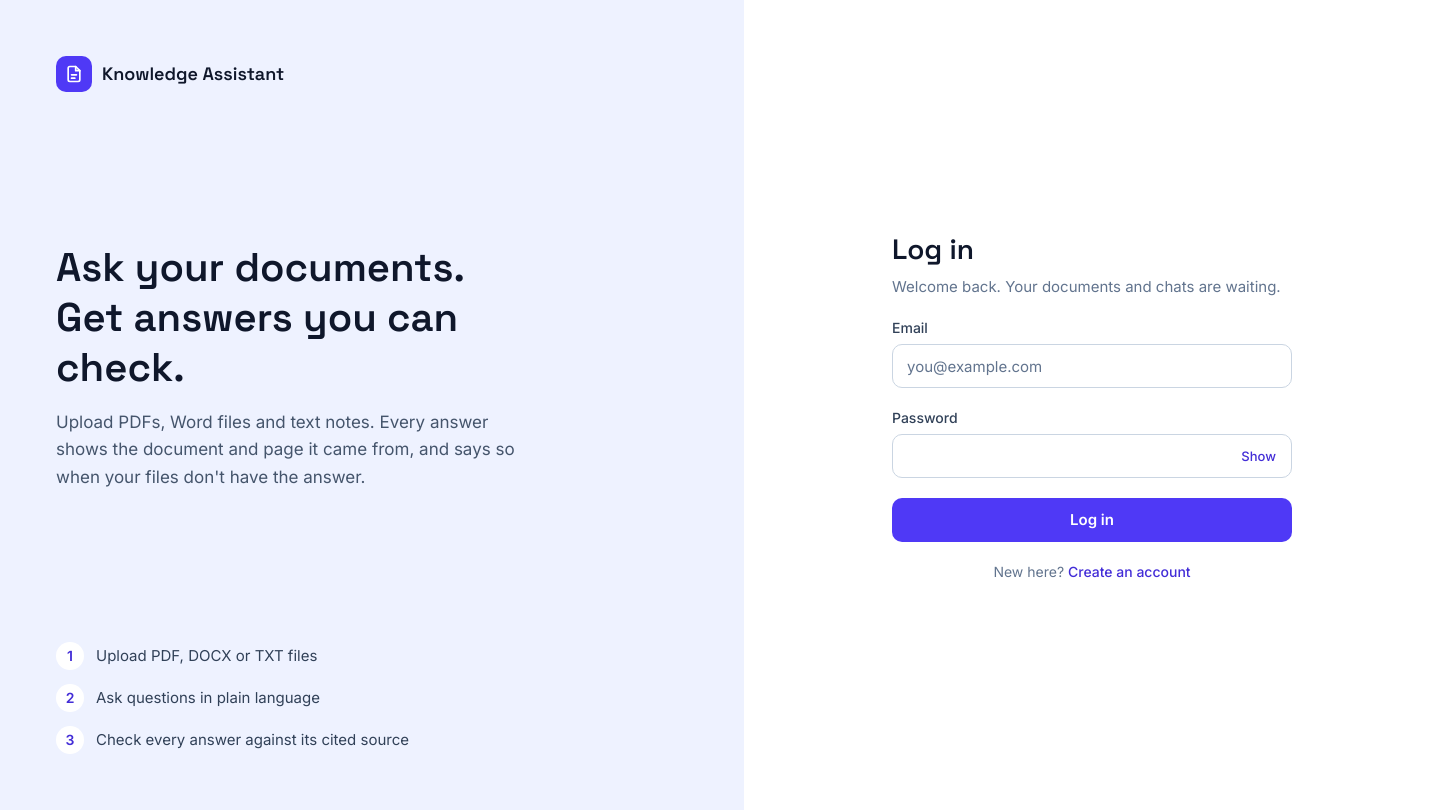
Test: LoginPage › when the free server is asleep › explains the wait after 5 seconds
The width and height of the screenshot is (1440, 810).
Type "alice@example.com" into the field labelled "Email" at point(1092, 366), box [892,344,1292,388]
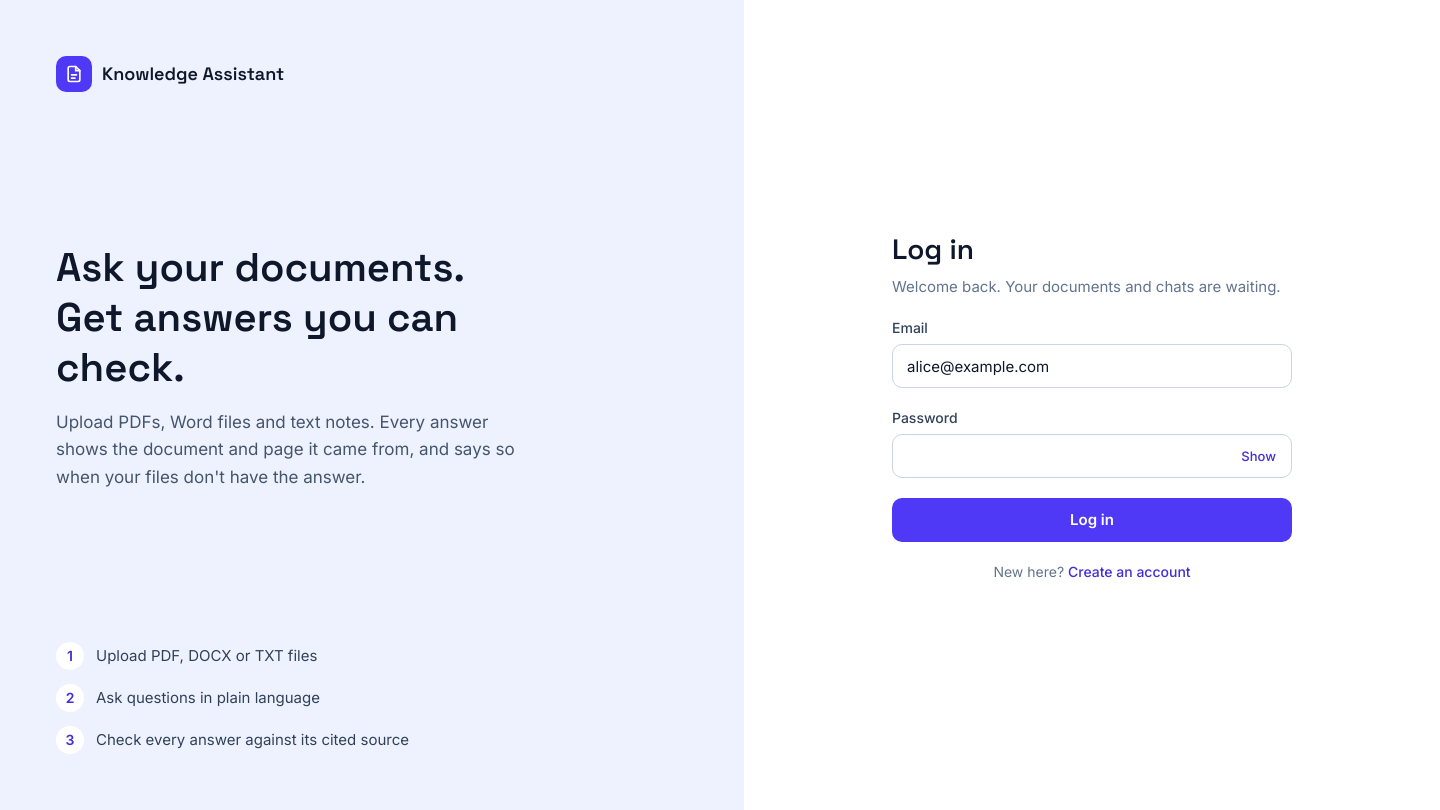
Type "password123" into the password field labelled "Password" at point(1092, 456), box [892,434,1292,478]
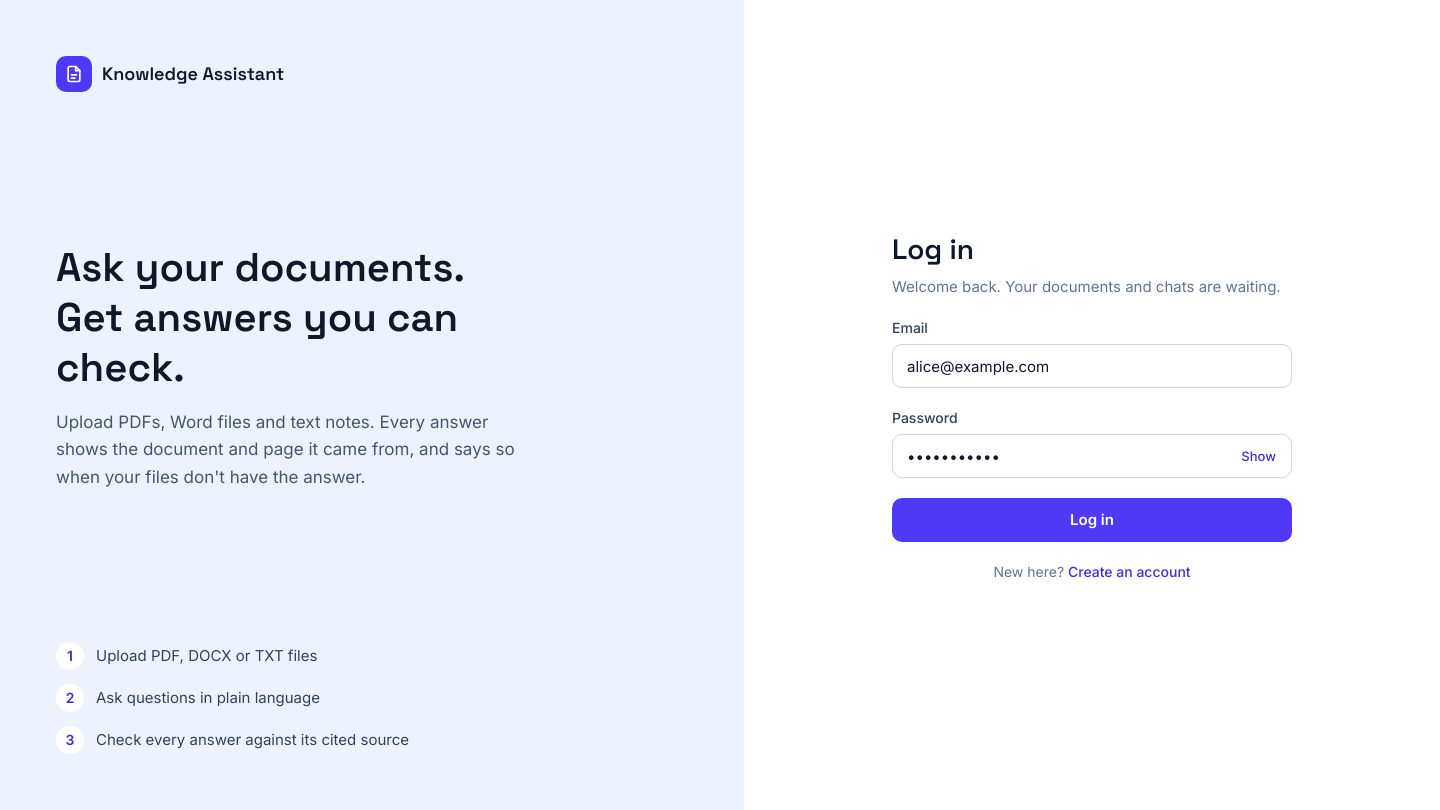
Click the button "Log in" at point(1092, 520), box [892,498,1292,542]
Wait 5000 ms
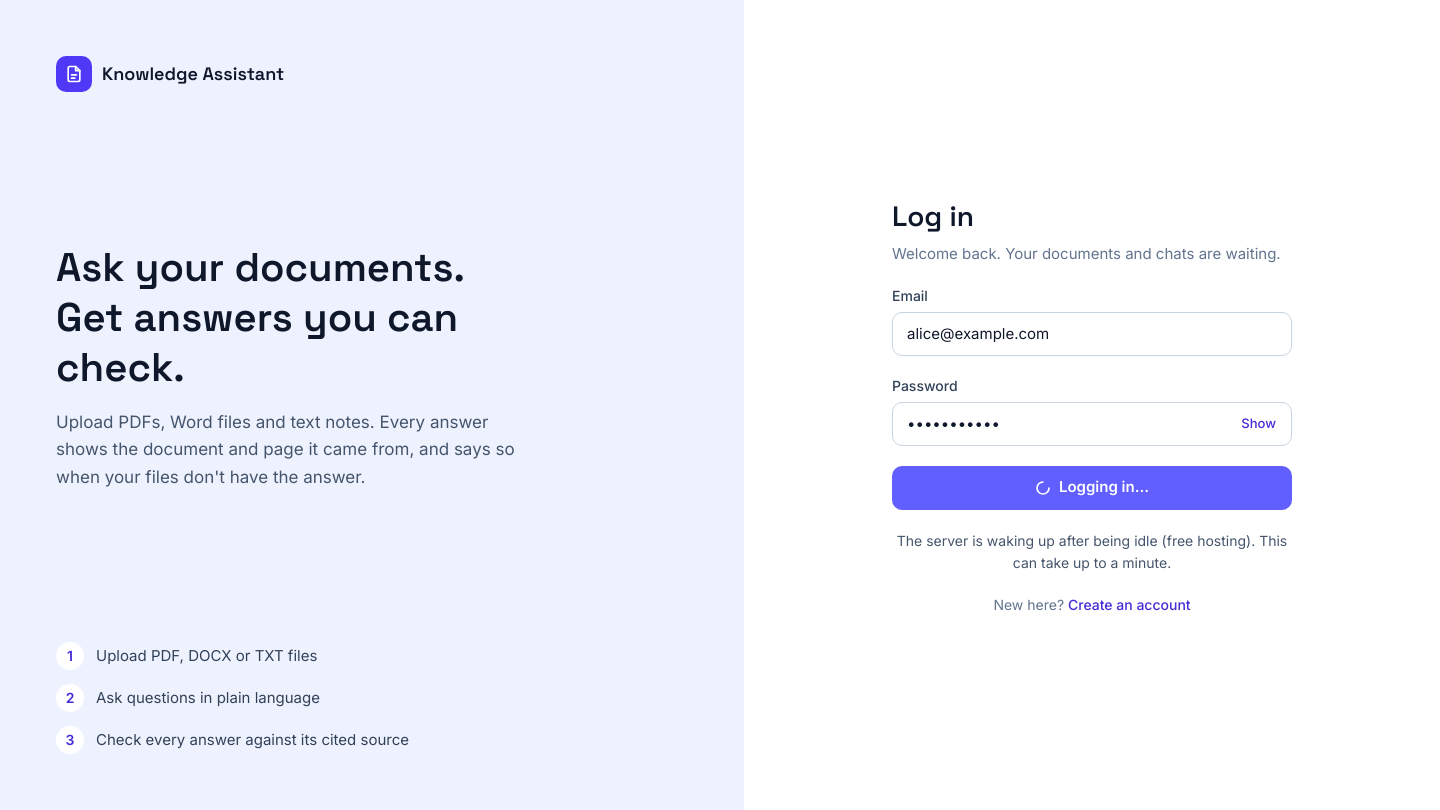
Result: the text "server is waking up" is shown at [897,532,1287,571]
